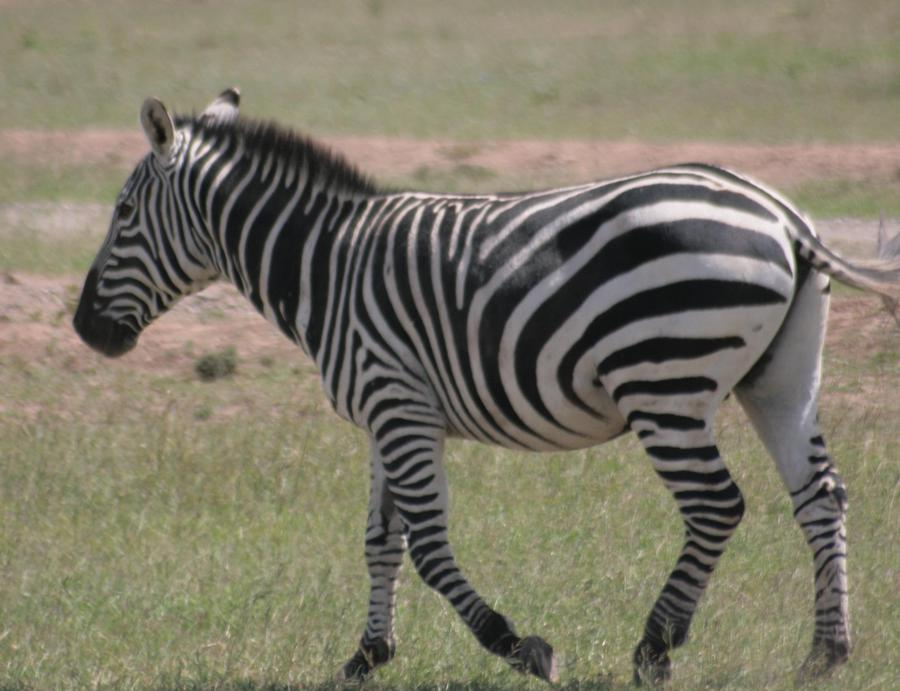zebra_plains: (326, 169, 736, 467)
